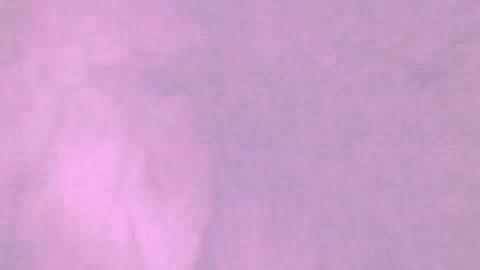tomato: (152, 154, 434, 268), (5, 156, 150, 268)
